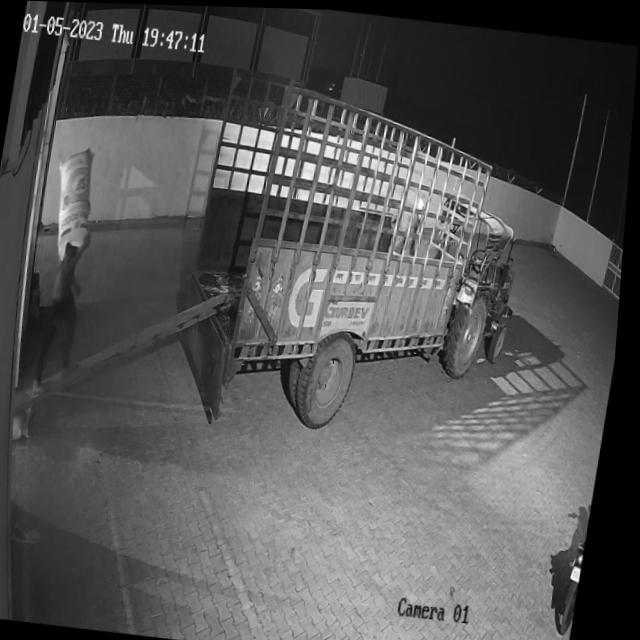sack: (48, 144, 106, 262)
